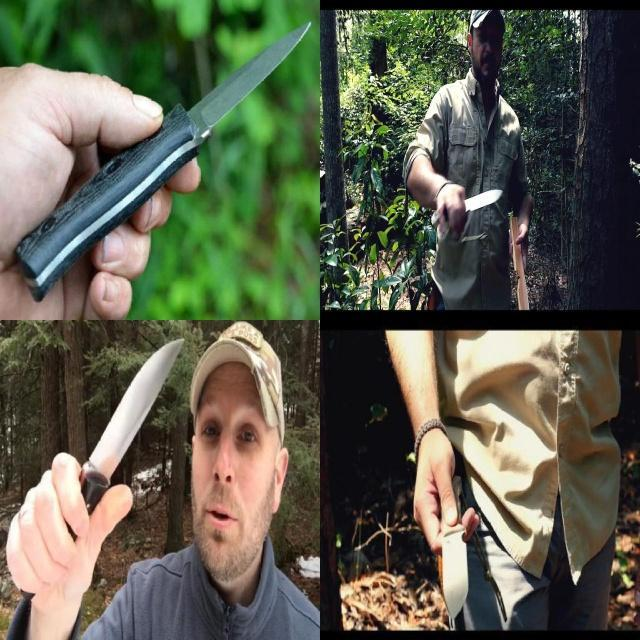-: (10, 14, 313, 305), (49, 334, 186, 556), (412, 472, 480, 624), (441, 183, 507, 237)
